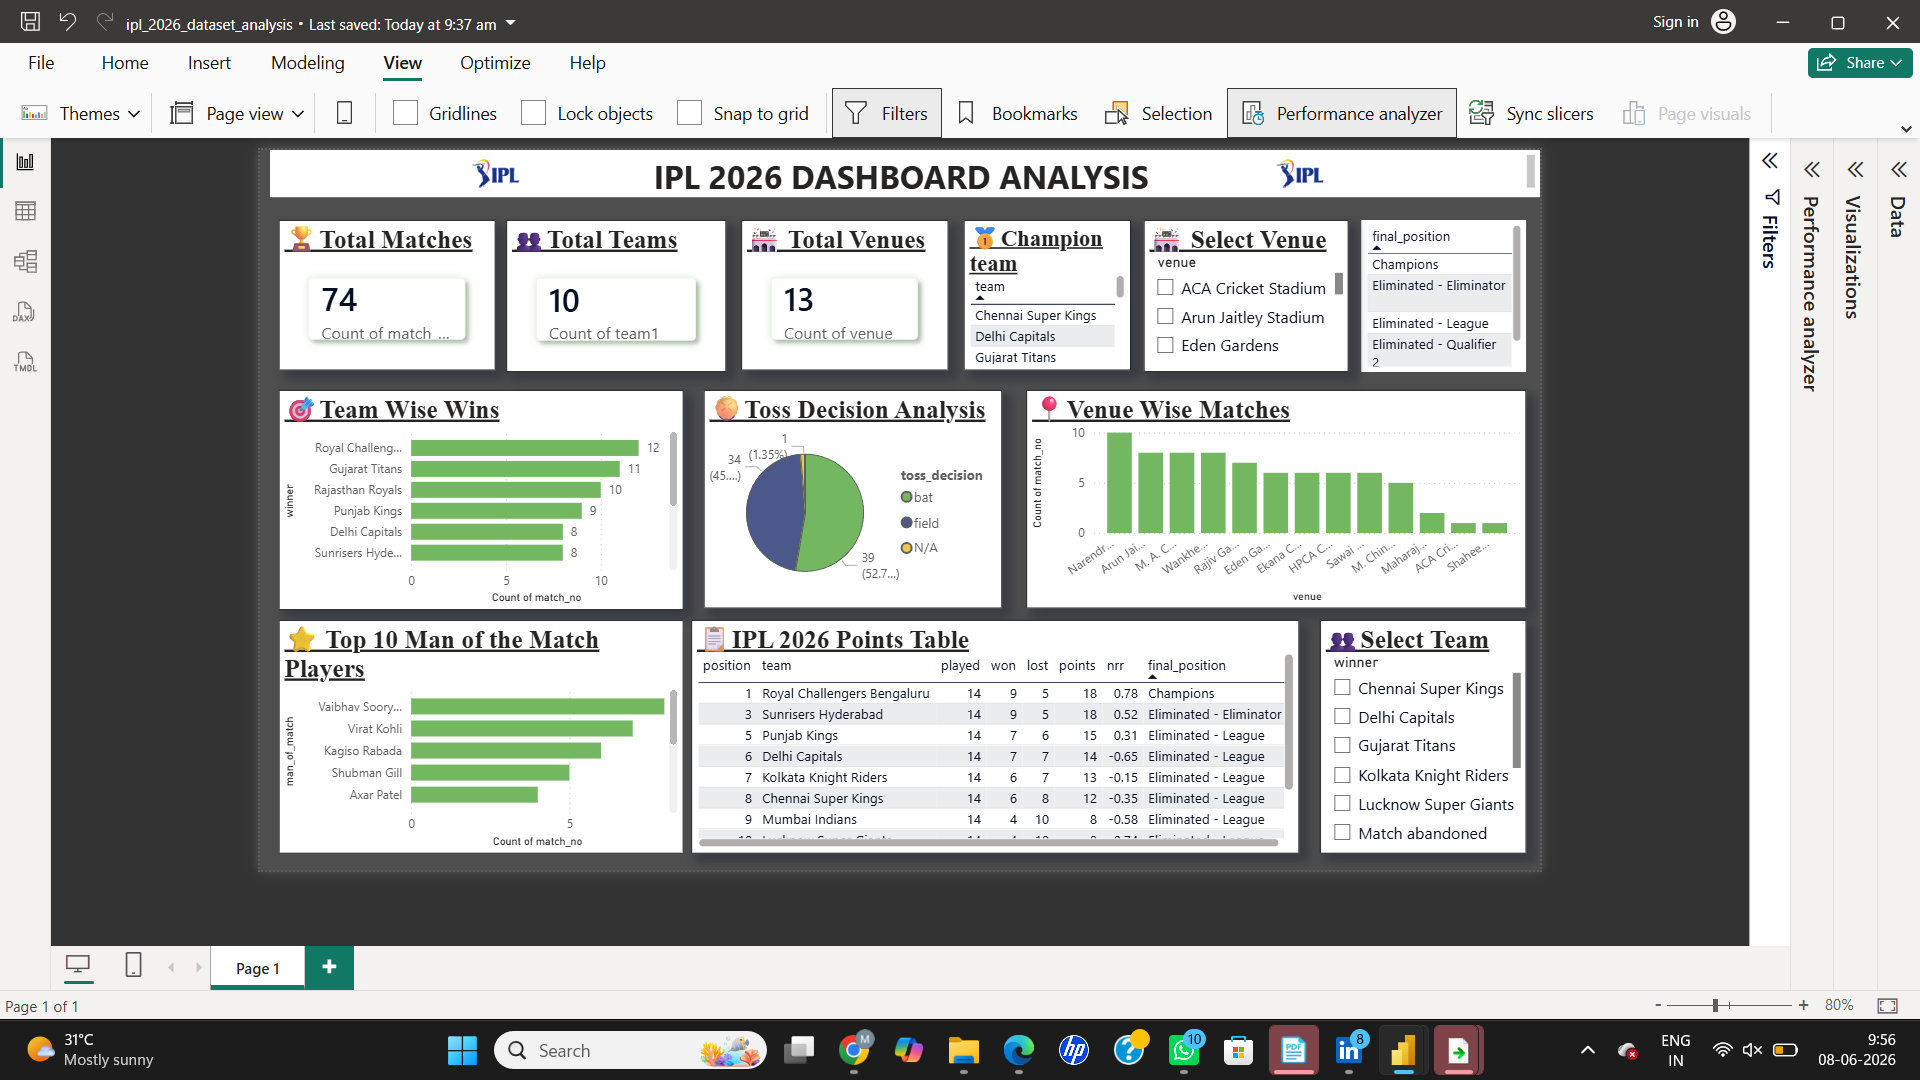

What the dashboard file says about the page in this screenshot:
{"tool":"powerbi","page":{"name":"Page 1","canvas":[1280,720],"ordinal":0},"visuals":[{"type":"textbox","box":[10,0,1270,47.1],"z":0},{"type":"cardVisual","title":"🏆Total Matches","fields":{"Data":["CountNonNull(ipl_2026_matches.match_no)"]},"box":[18.6,70,217.1,150],"z":1000},{"type":"cardVisual","title":"👥Total Teams","fields":{"Data":["Count(ipl_2026_matches.team1)"]},"box":[246.7,70,220,151.7],"z":2000},{"type":"cardVisual","title":"🏟️ Total Venues","fields":{"Data":["Count(ipl_2026_matches.venue)"]},"box":[481.4,70,207.1,150],"z":3000},{"type":"tableEx","title":"🥇Champion team","fields":{"Values":["points.team"]},"box":[704.3,70,167.1,150],"z":4000},{"type":"clusteredBarChart","title":"🎯Team Wise Wins","fields":{"Category":["ipl_2026_matches.winner"],"Y":["CountNonNull(ipl_2026_matches.match_no)"]},"box":[18.3,240,405,220],"z":5000},{"type":"tableEx","fields":{"Values":["points.final_position"]},"box":[1101.7,70,165,151.7],"z":6000},{"type":"pieChart","title":"🥧Toss Decision Analysis","fields":{"Category":["ipl_2026_matches.toss_decision"],"Y":["CountNonNull(ipl_2026_matches.match_no)"]},"box":[443.3,240,298.3,218.3],"z":7000},{"type":"columnChart","title":"📍Venue Wise Matches","fields":{"Category":["ipl_2026_matches.venue"],"Y":["CountNonNull(ipl_2026_matches.match_no)"]},"box":[766.7,240,500,218.3],"z":8000},{"type":"clusteredBarChart","title":"⭐ Top 10 Man of the Match Players","fields":{"Category":["ipl_2026_matches.man_of_match"],"Y":["CountNonNull(ipl_2026_matches.match_no)"]},"box":[18.3,470,405,233.3],"z":9000},{"type":"tableEx","title":"📋IPL 2026 Points Table","fields":{"Values":["points.position","points.team","points.played","points.won","points.lost","points.points","points.nrr","points.final_position"]},"box":[431.7,470,608.3,233.3],"z":10000},{"type":"slicer","title":"👥Select Team","fields":{"Values":["ipl_2026_matches.winner"]},"box":[1060,470,206.7,233.3],"z":11000},{"type":"slicer","title":"🏟️ Select Venue","fields":{"Values":["ipl_2026_matches.venue"]},"box":[883.3,70,205,151.7],"z":12000},{"type":"image","box":[140,0,191.2,47.5],"z":13000},{"type":"image","box":[947.1,0,184.3,47.1],"z":13001}]}

Visuals, with their boxes on the page's 1280x720 design canvas (x1, y1, x2, y2). These are canvas units, not pixel positions in the 1920x1080 screenshot, which may show the page scaled, cropped or inside an application window:
textbox: 10:0:1280:47
"🏆Total Matches" cardVisual: 19:70:236:220
"👥Total Teams" cardVisual: 247:70:467:222
"🏟️ Total Venues" cardVisual: 481:70:688:220
"🥇Champion team" tableEx: 704:70:871:220
"🎯Team Wise Wins" clusteredBarChart: 18:240:423:460
tableEx - points.final_position: 1102:70:1267:222
"🥧Toss Decision Analysis" pieChart: 443:240:742:458
"📍Venue Wise Matches" columnChart: 767:240:1267:458
"⭐ Top 10 Man of the Match Players" clusteredBarChart: 18:470:423:703
"📋IPL 2026 Points Table" tableEx: 432:470:1040:703
"👥Select Team" slicer: 1060:470:1267:703
"🏟️ Select Venue" slicer: 883:70:1088:222
image: 140:0:331:48
image: 947:0:1131:47
